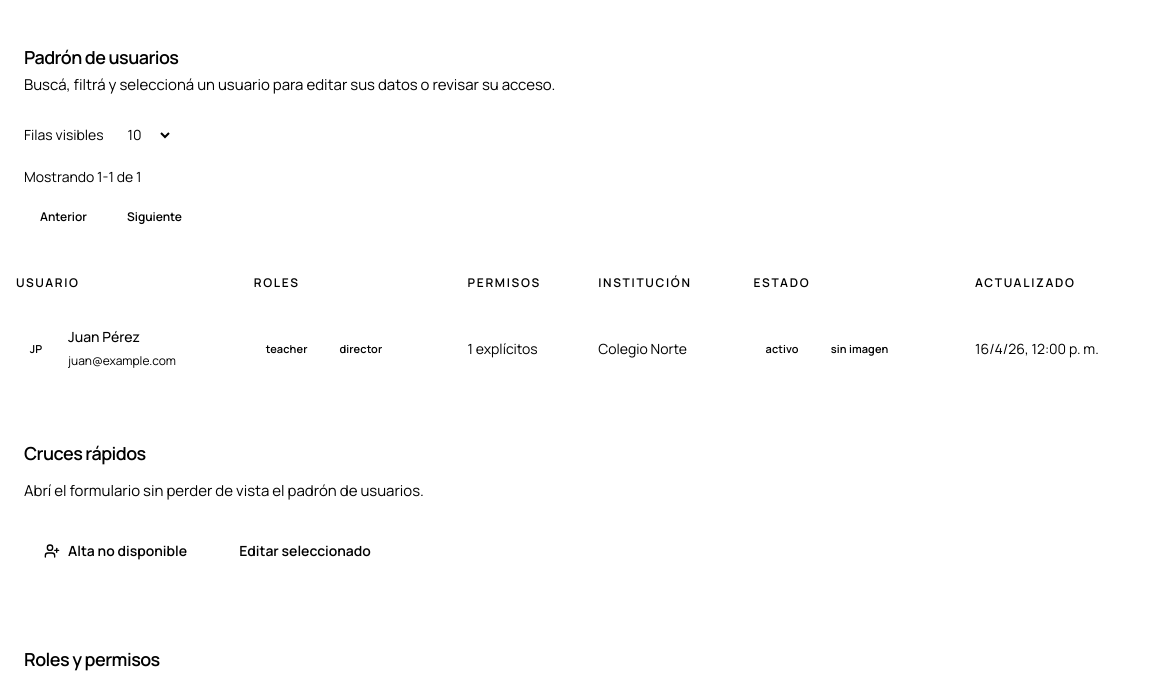
Test case: UsersTable › shows read-only cues when the current user lacks management permissions
(page scrolled)
Click the text "Juan Pérez".
click(104, 336)  # box x1=68 y1=326 x2=140 y2=346
(page scrolled)
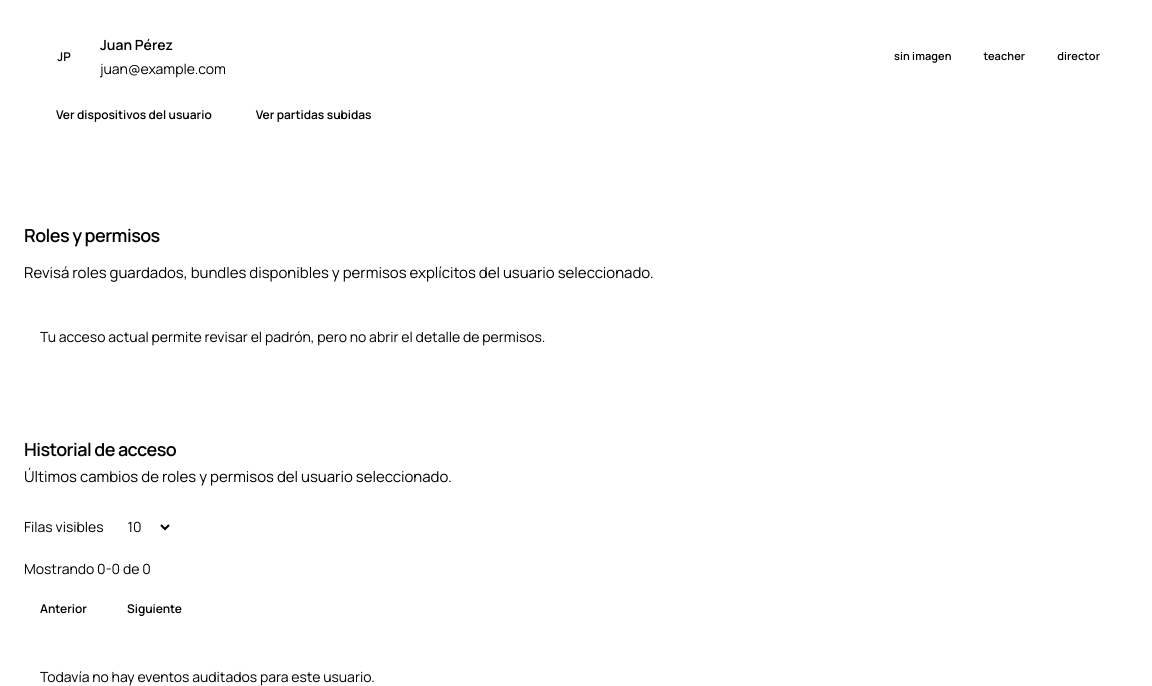
Now the text "no abrir el detalle de permisos" is shown, box x1=40 y1=326 x2=545 y2=346
